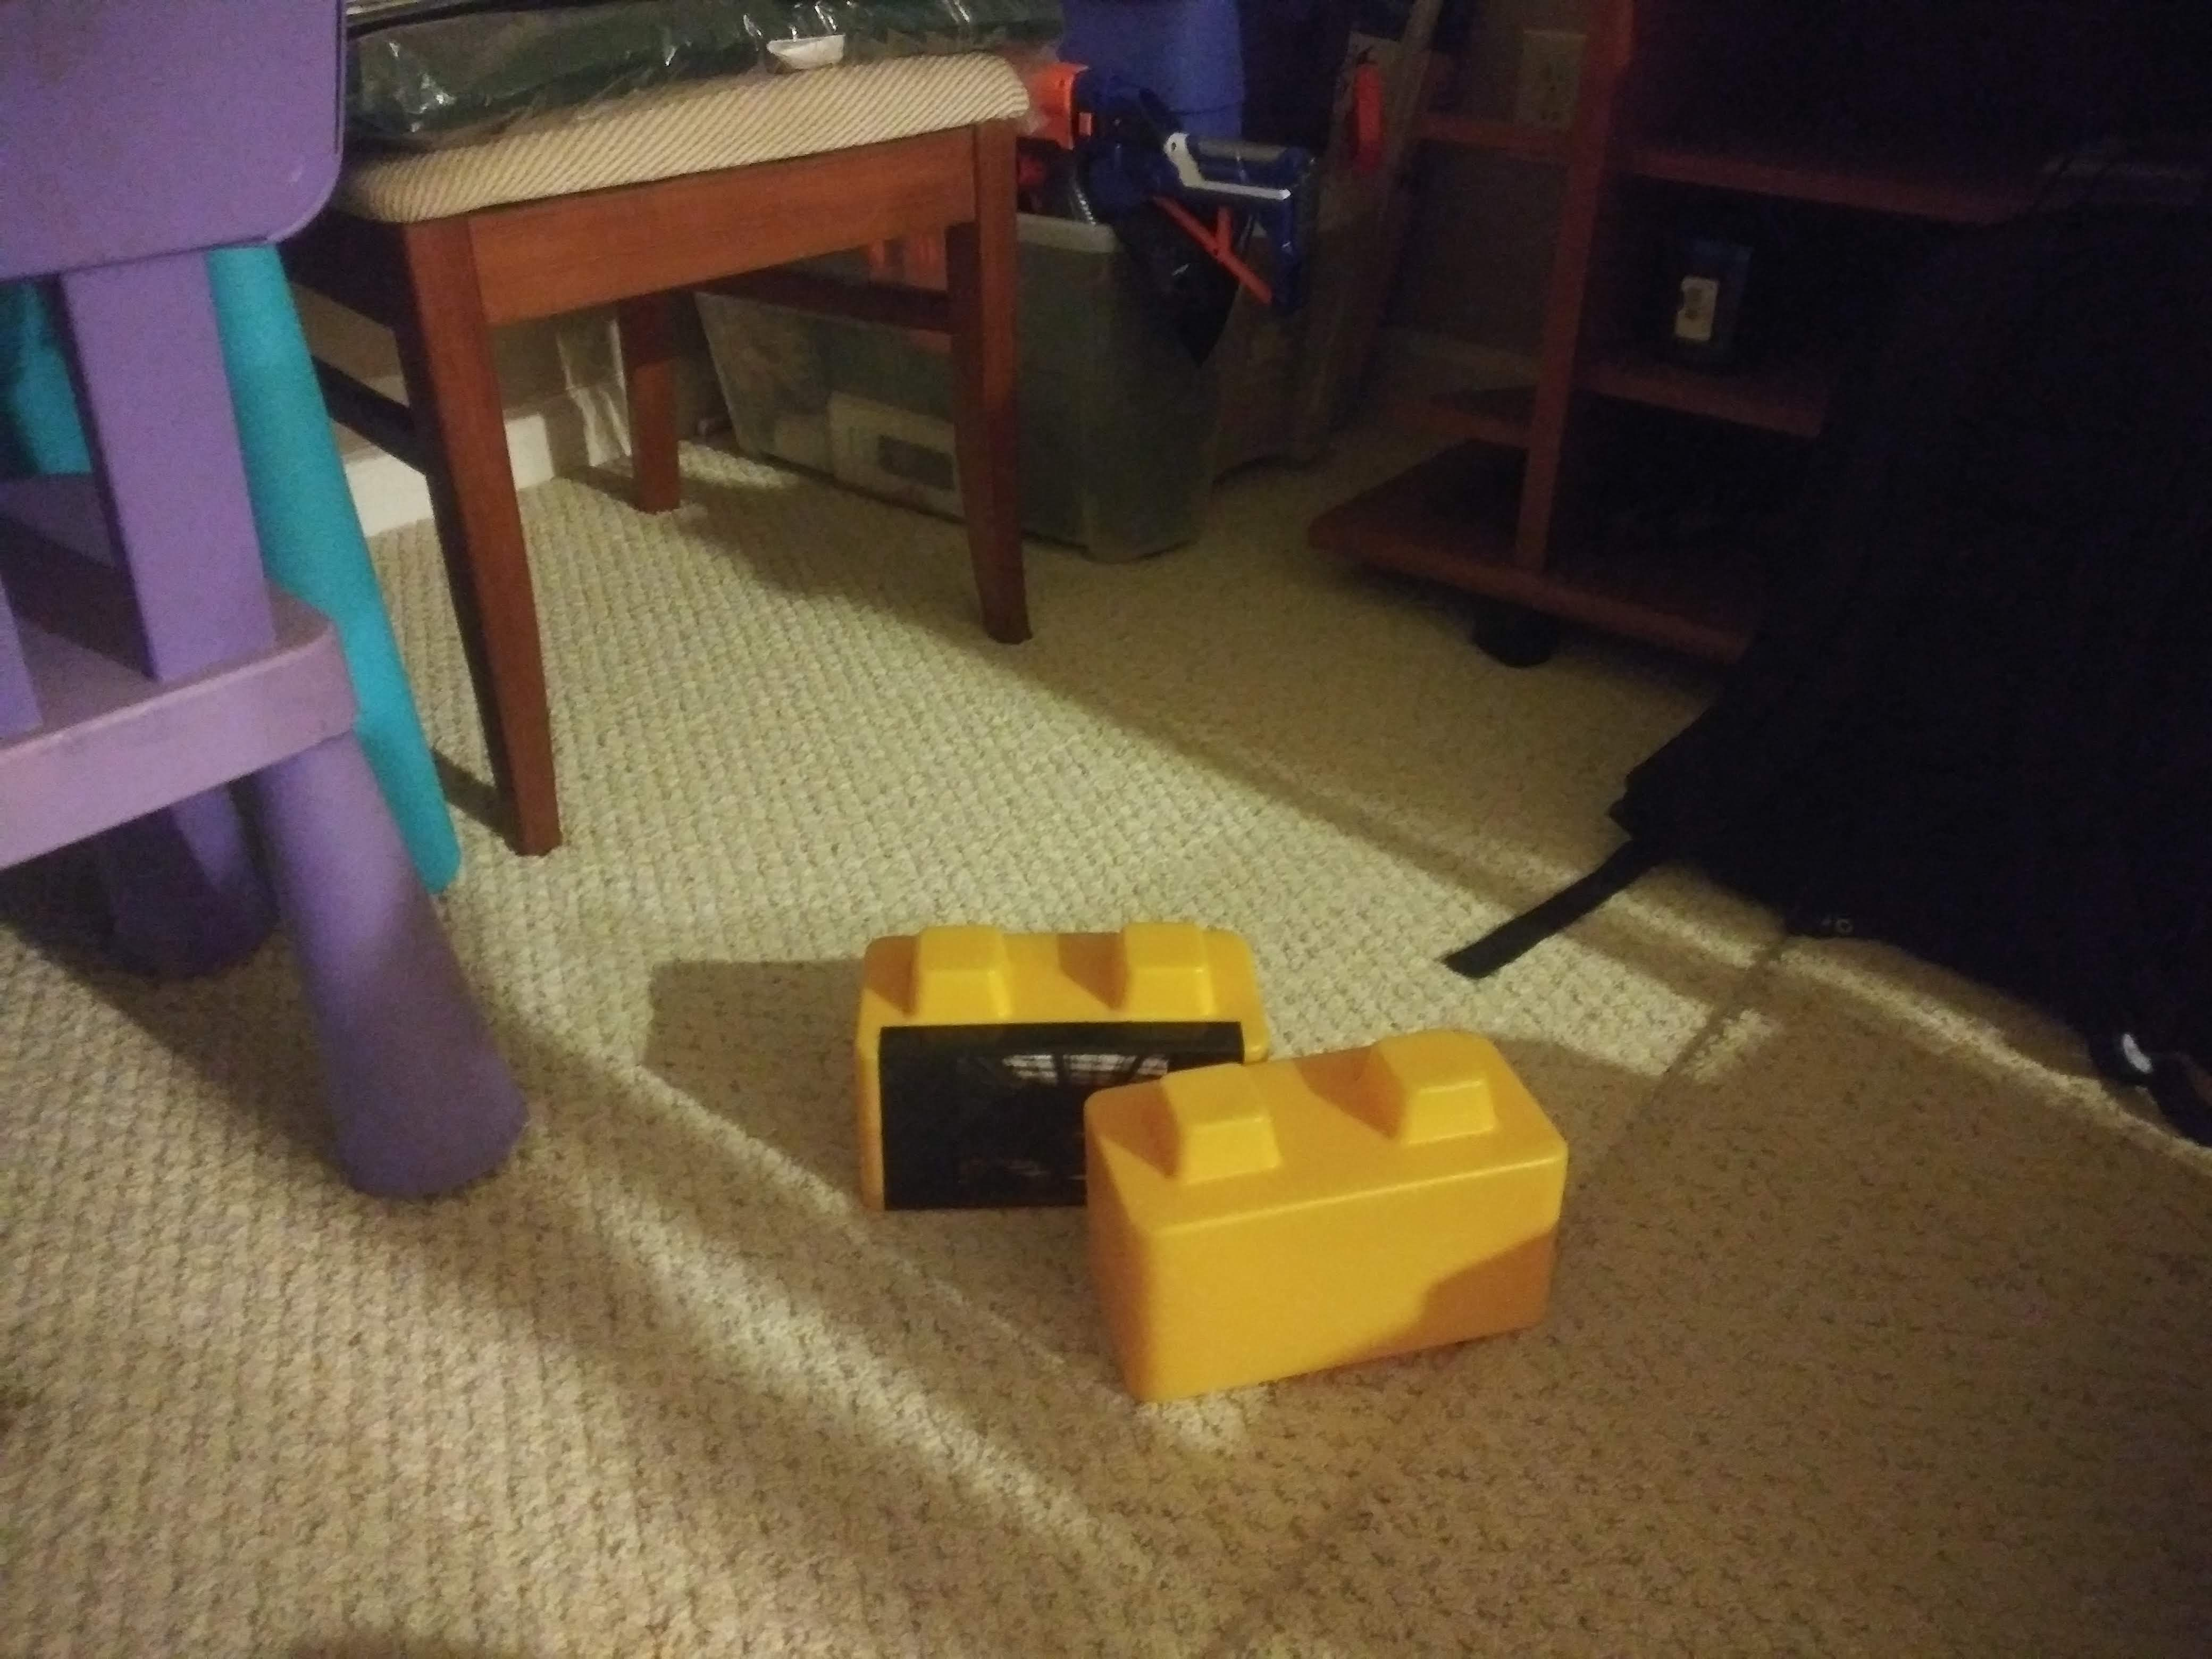skystone: (853, 948, 1069, 1201)
stone: (1097, 1089, 1557, 1368)
